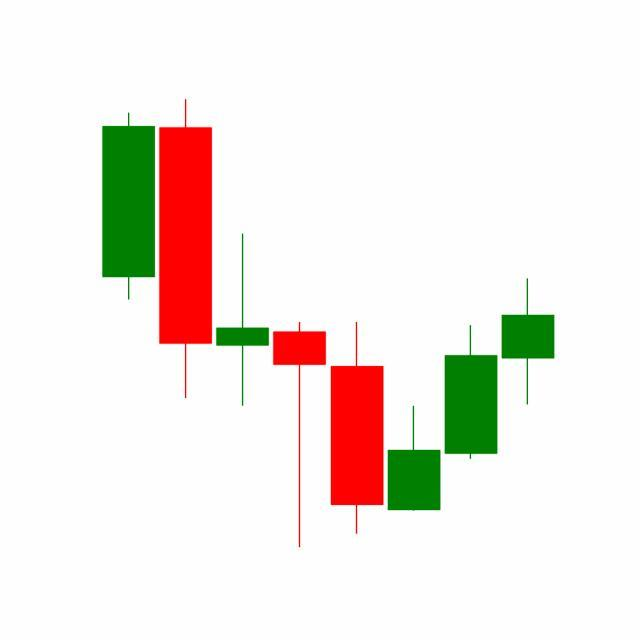Hikkake Pattern: (214, 230, 501, 549)
